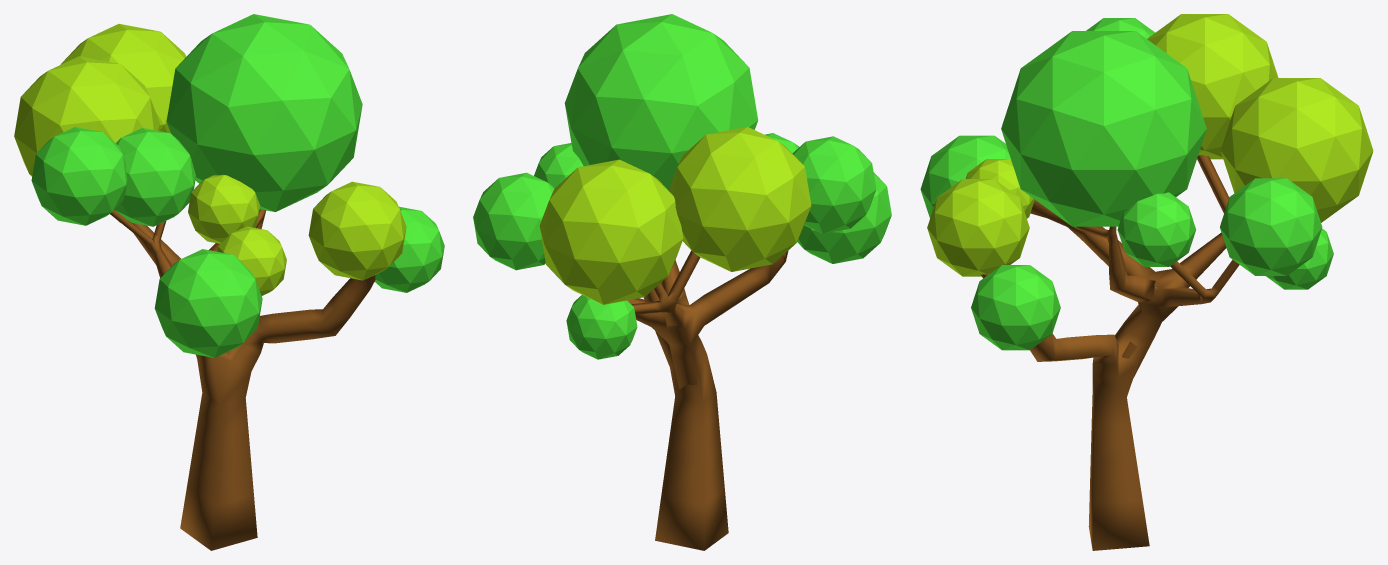
Rendered from RW_tree _3.fbx.
The picture shows the model from 3 angles, left to right: view 1: azimuth 30°, elevation 25°; view 2: azimuth 150°, elevation 25°; view 3: azimuth 270°, elevation 25°; orthographic projection. The views are drawn at different scales.
Parts seen in each view (by area): view 1: Icosphere.002; view 2: Icosphere.002; view 3: Icosphere.002.
Part boxes in pixels (left/top/right/bottom): Icosphere.002: left=14, top=14, right=444, bottom=550; Icosphere.002: left=473, top=14, right=891, bottom=550; Icosphere.002: left=920, top=14, right=1373, bottom=550.
Bounding box in the file's own units: 8.91 × 12.43 × 9.78.
